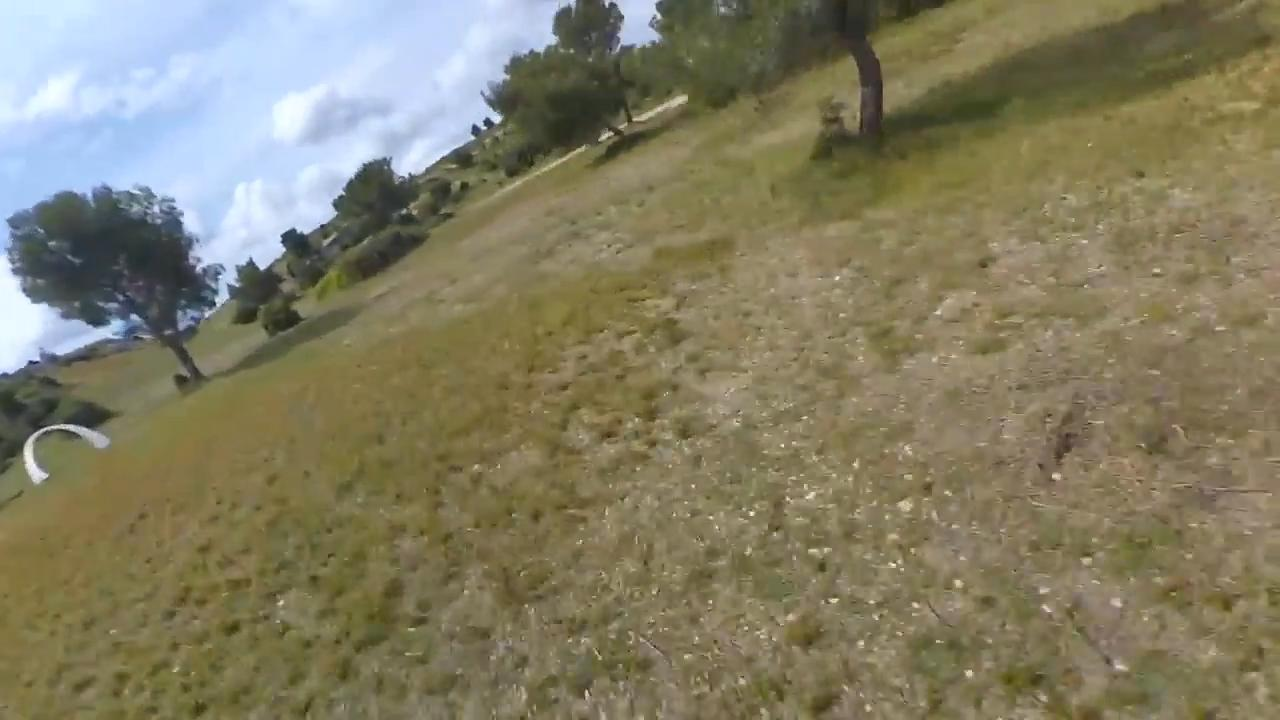gate: (21, 422, 111, 485)
